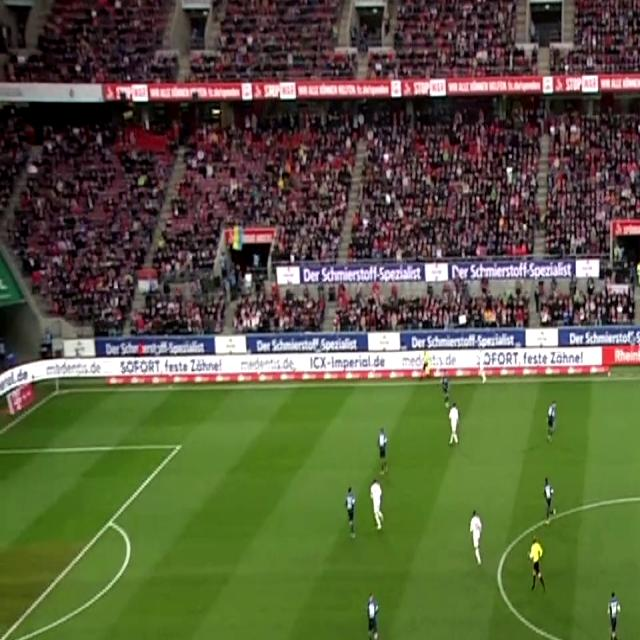soccer-player: (339, 484, 366, 548), (364, 476, 390, 541), (602, 585, 630, 640), (467, 506, 491, 570), (359, 585, 385, 640), (539, 472, 563, 530), (527, 537, 548, 595), (373, 415, 394, 473), (440, 399, 463, 451), (542, 398, 564, 448)
